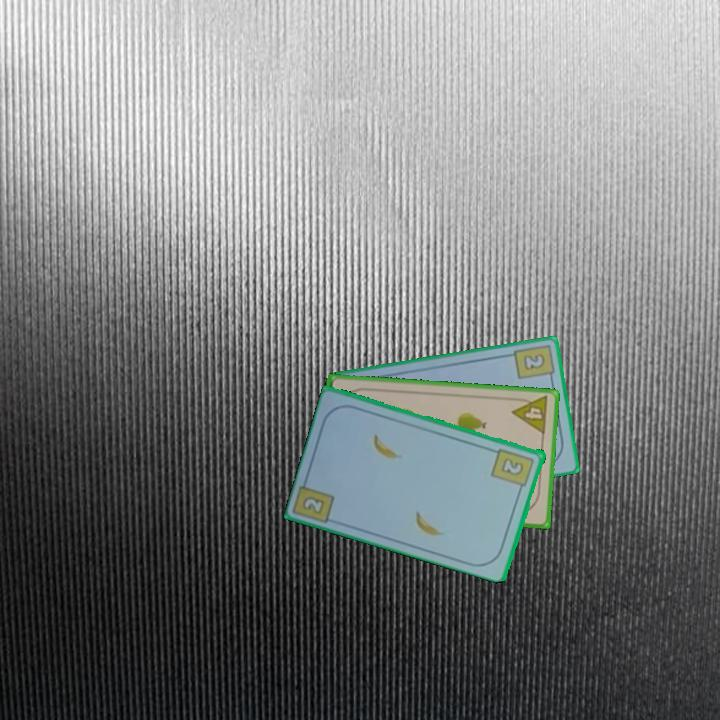2b: (488, 445, 537, 494), (510, 341, 556, 385), (301, 492, 328, 517)
4p: (509, 392, 551, 437)
